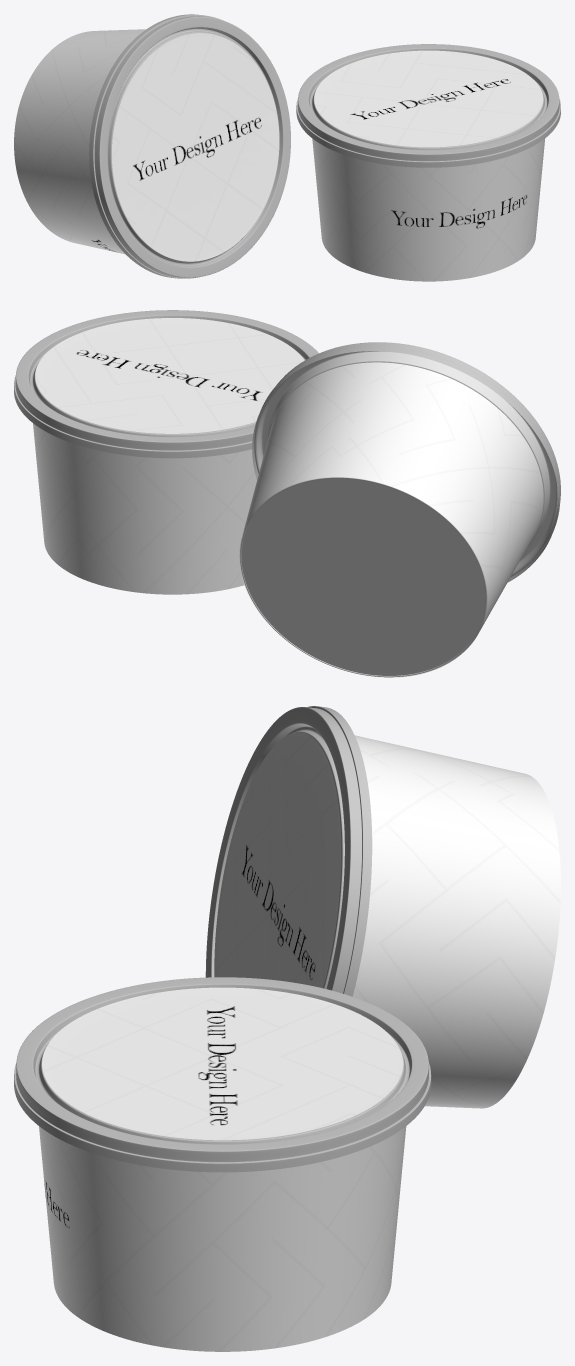
The model's file is Round Angle-1.glb.
The picture shows the model from 3 angles, top to bottom: view 1: azimuth 30°, elevation 25°; view 2: azimuth 150°, elevation 25°; view 3: azimuth 270°, elevation 25°; orthographic projection. The views are drawn at different scales.
Parts seen in each view (by area): view 1: Bottom.009, Bottom.004, Lid.009, Lid.006; view 2: Bottom.004, Bottom.010, Bottom.009, Lid.006, Lid.009; view 3: Bottom.004, Bottom.009, Lid.006, Lid.009.
Boxes of the visible parts, bbox=[...] form: Bottom.009: bbox=[14, 29, 279, 261]; Bottom.004: bbox=[312, 50, 545, 281]; Lid.009: bbox=[89, 14, 290, 278]; Lid.006: bbox=[296, 44, 560, 167]; Bottom.004: bbox=[33, 318, 304, 594]; Bottom.010: bbox=[240, 351, 558, 677]; Bottom.009: bbox=[239, 362, 543, 677]; Lid.006: bbox=[14, 310, 318, 458]; Lid.009: bbox=[252, 342, 560, 582]; Bottom.004: bbox=[39, 987, 406, 1351]; Bottom.009: bbox=[214, 732, 560, 1108]; Lid.006: bbox=[14, 977, 431, 1172]; Lid.009: bbox=[205, 706, 372, 996].
Bounding box in the file's own units: 0.2922 × 0.1502 × 0.194.
Materials: 3 (1 with a texture image).
